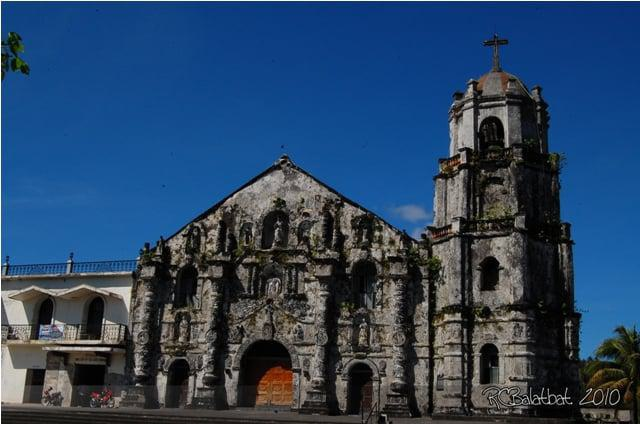daraga_church_daraga_albay: (127, 24, 579, 417)
vegetation_damage: (421, 255, 445, 278), (547, 151, 569, 174)
